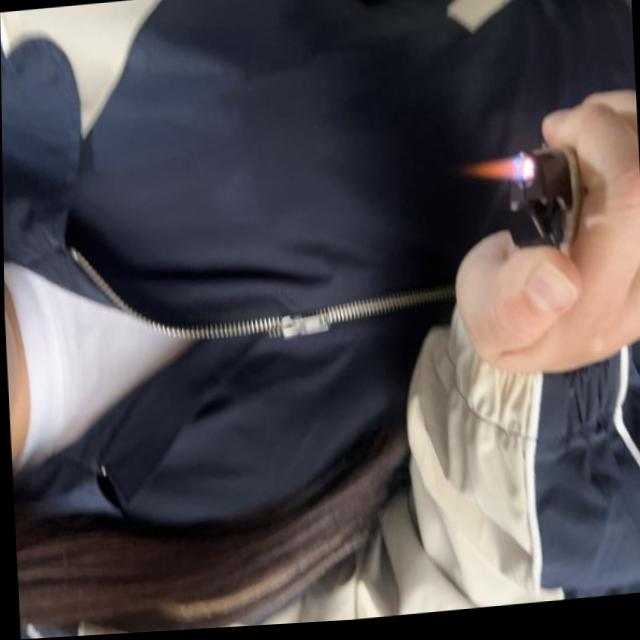Fire: (465, 157, 521, 191)
